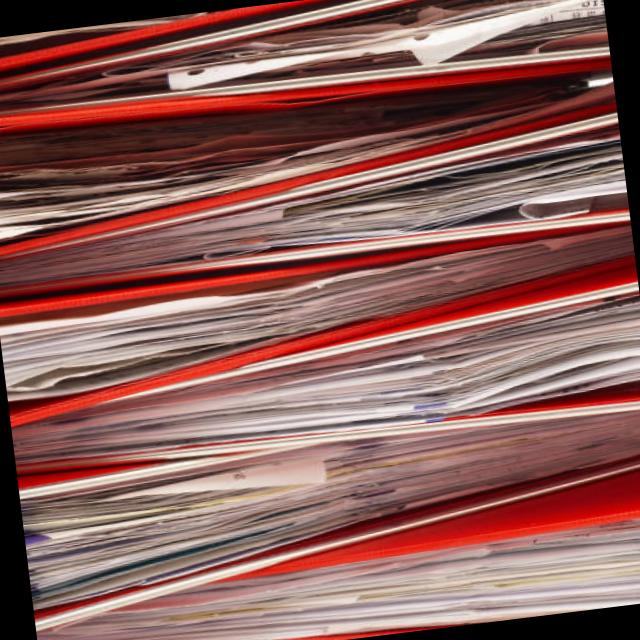electronic: (15, 387, 640, 624), (0, 254, 640, 474), (0, 214, 640, 402), (157, 0, 608, 97)
